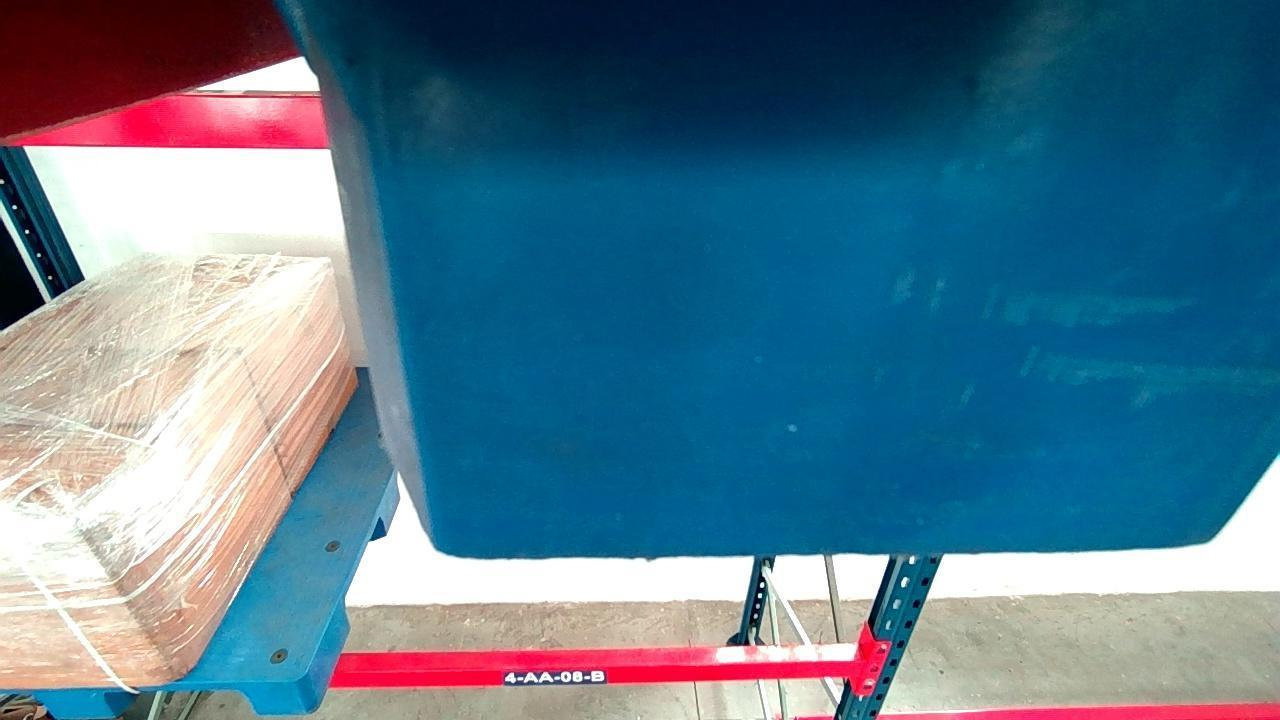h_rack: (7, 89, 326, 148), (332, 659, 860, 686)
